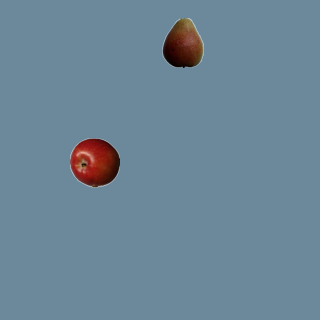Apple Braeburn: (69, 137, 119, 187)
Pear Forelle: (157, 17, 207, 67)
